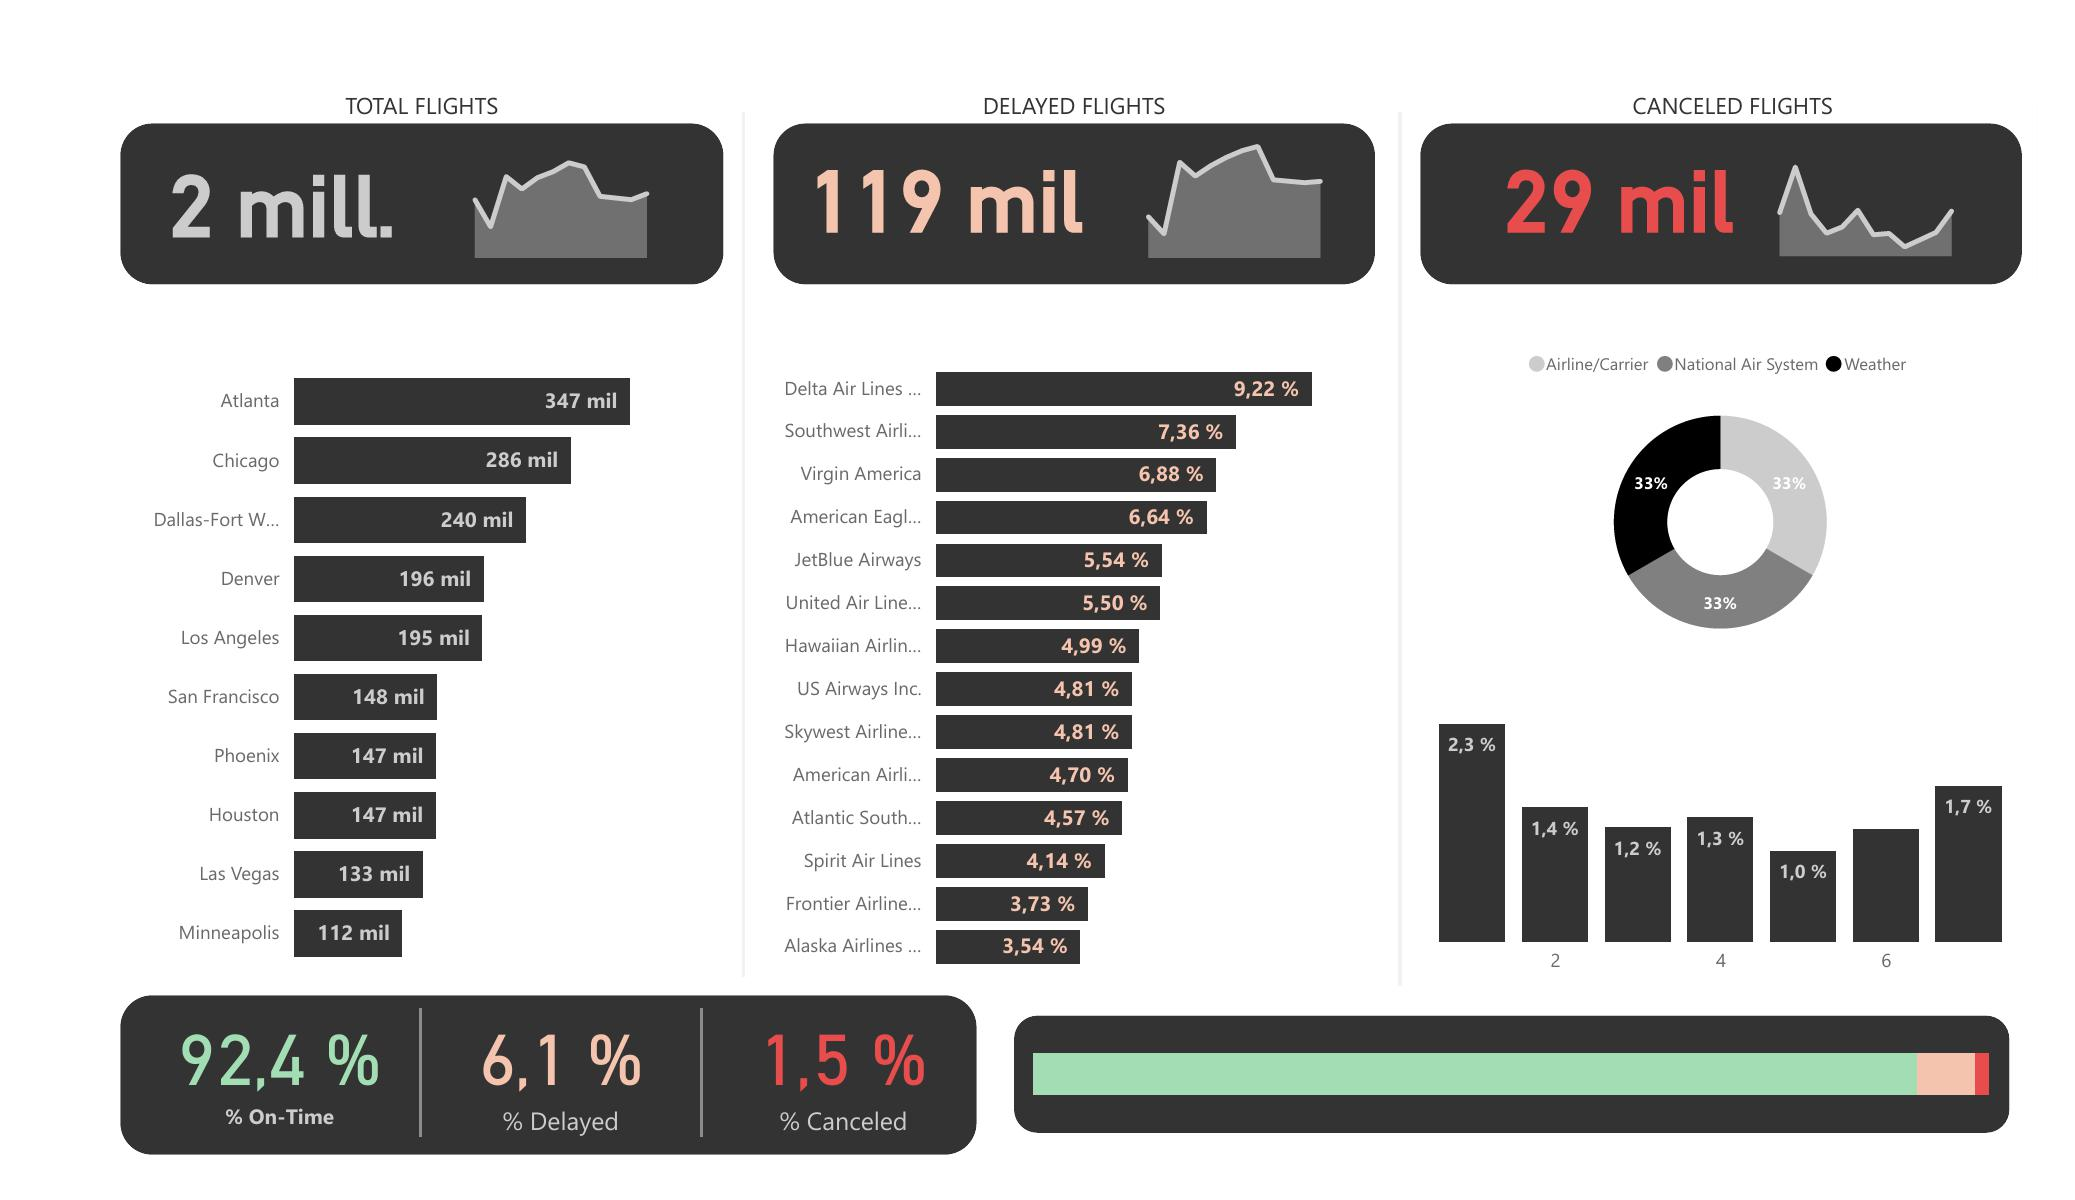

The dashboard page shown, as its layout file describes it:
{"tool":"powerbi","page":{"name":"Flight Status Dashborad","canvas":[1280,720],"ordinal":0},"visuals":[{"type":"clusteredBarChart","fields":{"Category":["airports.CITY"],"Y":["flights.Total Flights"]},"box":[57.4,189.7,377.4,419.2],"z":9000},{"type":"clusteredBarChart","fields":{"Category":["airlines.AIRLINE"],"Y":["flights.% Delayed"]},"box":[461,189.7,404.6,419.2],"z":10000},{"type":"donutChart","fields":{"Category":["cancellation_codes.CANCELLATION_DESCRIPTION"],"Y":["flights.% Canceled"]},"box":[891.9,189.7,370.6,213],"z":11000},{"type":"clusteredColumnChart","fields":{"Category":["flights.DAY_OF_WEEK"],"Y":["flights.% Canceled"]},"box":[891.9,402.7,370.6,206.2],"z":12000},{"type":"shape","box":[438.7,47.7,26.3,553.4],"z":14000},{"type":"shape","box":[858.8,47.7,26.3,559.3],"z":16000},{"type":"shape","box":[53.5,55.4,385.2,102.1],"z":18001},{"type":"card","fields":{"Values":["flights.Total Flights"]},"box":[36,31.1,240.2,140.1],"z":18002},{"type":"lineChart","fields":{"Category":["flights.MONTH"],"Y":["flights.Total Flights"]},"box":[254.8,55.4,179.9,90.5],"z":18003},{"type":"textbox","box":[57.4,28.2,377.4,37.9],"z":18004},{"type":"shape","box":[470.8,55.4,385.2,102.1],"z":18005},{"type":"card","fields":{"Values":["flights.Delayed Flights"]},"box":[461,28.2,240.2,140.1],"z":18006},{"type":"lineChart","fields":{"Category":["flights.MONTH"],"Y":["flights.Delayed Flights"]},"box":[685.7,55.4,179.9,90.5],"z":18007},{"type":"textbox","box":[461,28.2,404.6,37.9],"z":18008},{"type":"shape","box":[885.1,55.4,385.2,102.1],"z":18009},{"type":"card","fields":{"Values":["flights.Canceled Flights"]},"box":[891.9,28.2,240.2,140.1],"z":18010},{"type":"lineChart","fields":{"Category":["flights.MONTH"],"Y":["flights.Canceled Flights"]},"box":[1090.3,55.4,179.9,90.5],"z":18011},{"type":"textbox","box":[900,27.8,370,37.8],"z":18012},{"type":"shape","box":[53.5,612.8,547.6,102.1],"z":18013},{"type":"card","fields":{"Values":["flights.% On-Time"]},"box":[70,606.7,170,102.2],"z":18014},{"type":"card","fields":{"Values":["flights.% Delayed"]},"box":[250,608.9,170,102.2],"z":18015},{"type":"card","fields":{"Values":["flights.% Canceled"]},"box":[431.1,608.9,170,102.2],"z":18016},{"type":"shape","box":[625.4,626.4,637.1,74.9],"z":18017},{"type":"barChart","fields":{"Y":["flights.Total Flights"],"Series":["flights.STATUS"]},"box":[632.2,601.1,638.1,118.7],"z":18018},{"type":"shape","box":[411.1,621.1,27.8,83.3],"z":18019},{"type":"shape","box":[231.1,621.1,27.8,83.3],"z":18020}]}

Visuals, with their boxes in screenshot pixels (x1, y1, x2, y2):
clusteredBarChart - airports.CITY x flights.Total Flights: 127 334 717 989
clusteredBarChart - airlines.AIRLINE x flights.% Delayed: 758 334 1390 989
donutChart - cancellation_codes.CANCELLATION_DESCRIPTION x flights.% Canceled: 1431 334 2010 667
clusteredColumnChart - flights.DAY_OF_WEEK x flights.% Canceled: 1431 667 2010 989
shape: 723 112 764 977
shape: 1379 112 1420 986
shape: 121 124 723 284
card - flights.Total Flights: 94 86 469 305
lineChart - flights.MONTH x flights.Total Flights: 436 124 717 265
textbox: 127 82 717 141
shape: 773 124 1375 284
card - flights.Delayed Flights: 758 82 1133 300
lineChart - flights.MONTH x flights.Delayed Flights: 1109 124 1390 265
textbox: 758 82 1390 141
shape: 1420 124 2022 284
card - flights.Canceled Flights: 1431 82 1806 300
lineChart - flights.MONTH x flights.Canceled Flights: 1741 124 2022 265
textbox: 1444 81 2022 140
shape: 121 995 977 1155
card - flights.% On-Time: 147 985 412 1145
card - flights.% Delayed: 428 989 694 1149
card - flights.% Canceled: 711 989 977 1149
shape: 1015 1016 2010 1133
barChart - flights.Total Flights x flights.STATUS: 1025 977 2022 1162
shape: 680 1008 723 1138
shape: 399 1008 442 1138
